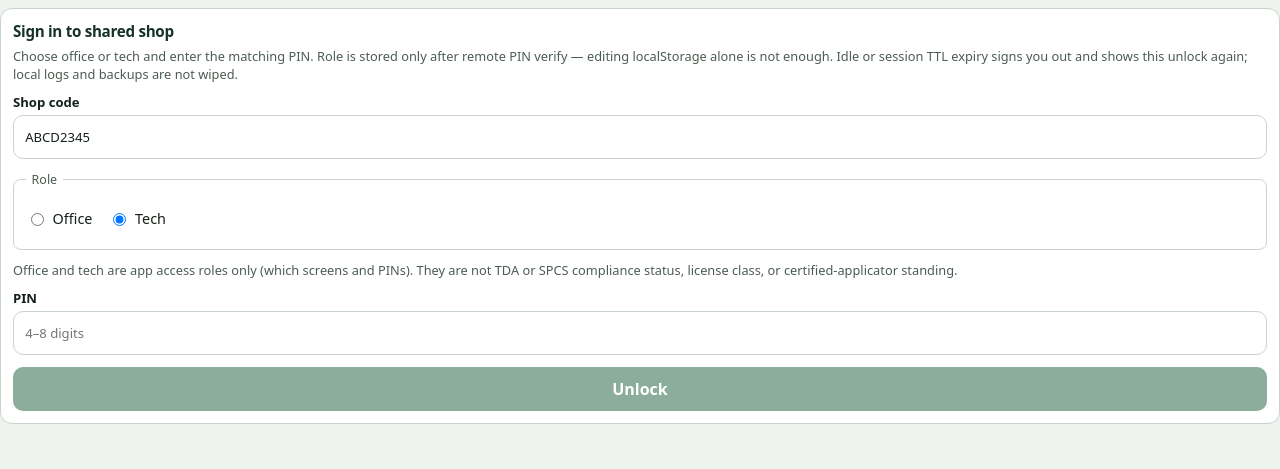
Test: ShopSessionGate: sign in › failure shows the error as an alert, keeps the PIN, and does not notify
In the password field named "Role PIN": [640, 334] box x1=13 y1=312 x2=1267 y2=356, type "1111"
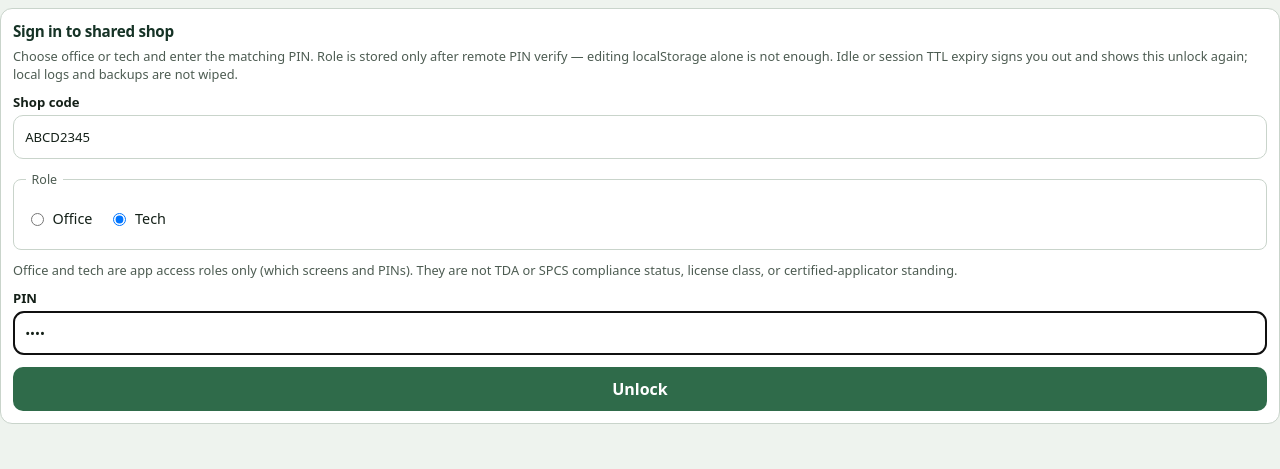
Click the button "Unlock": [640, 389] box x1=13 y1=367 x2=1267 y2=411
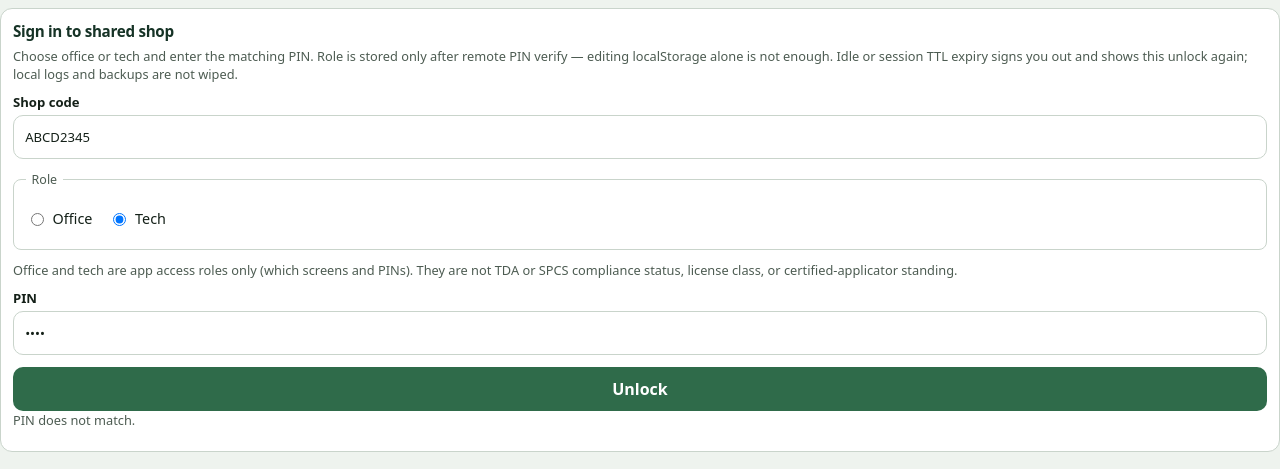
Now the message reads "PIN does not match.", box x1=13 y1=411 x2=135 y2=429
